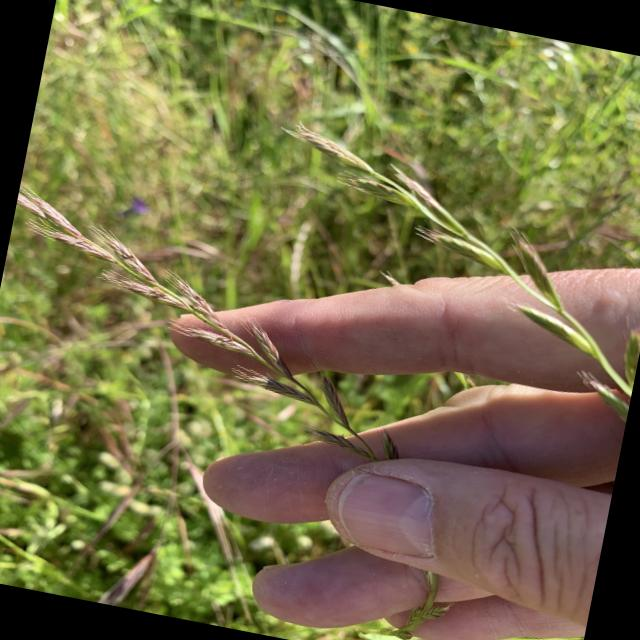Lolium: (0, 69, 640, 640), (0, 183, 431, 468)
